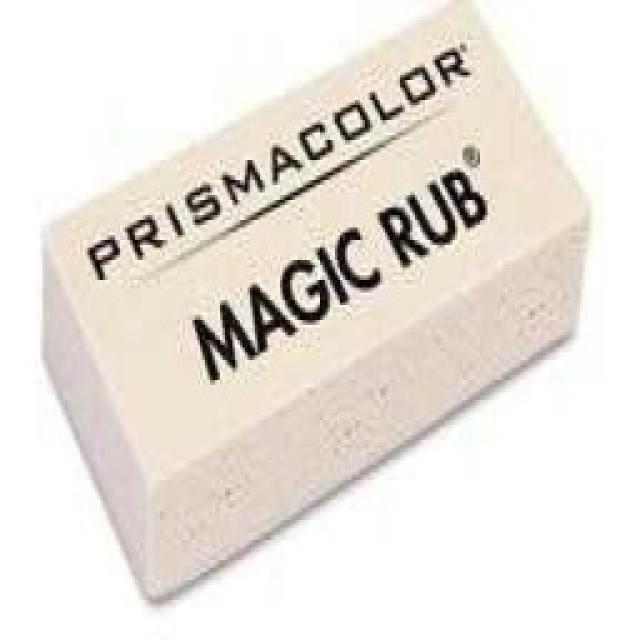Silgi: (41, 0, 592, 603)
